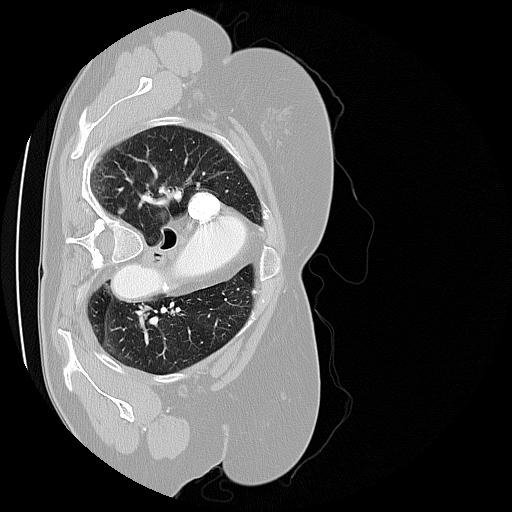nodule: (116, 205, 128, 217)
